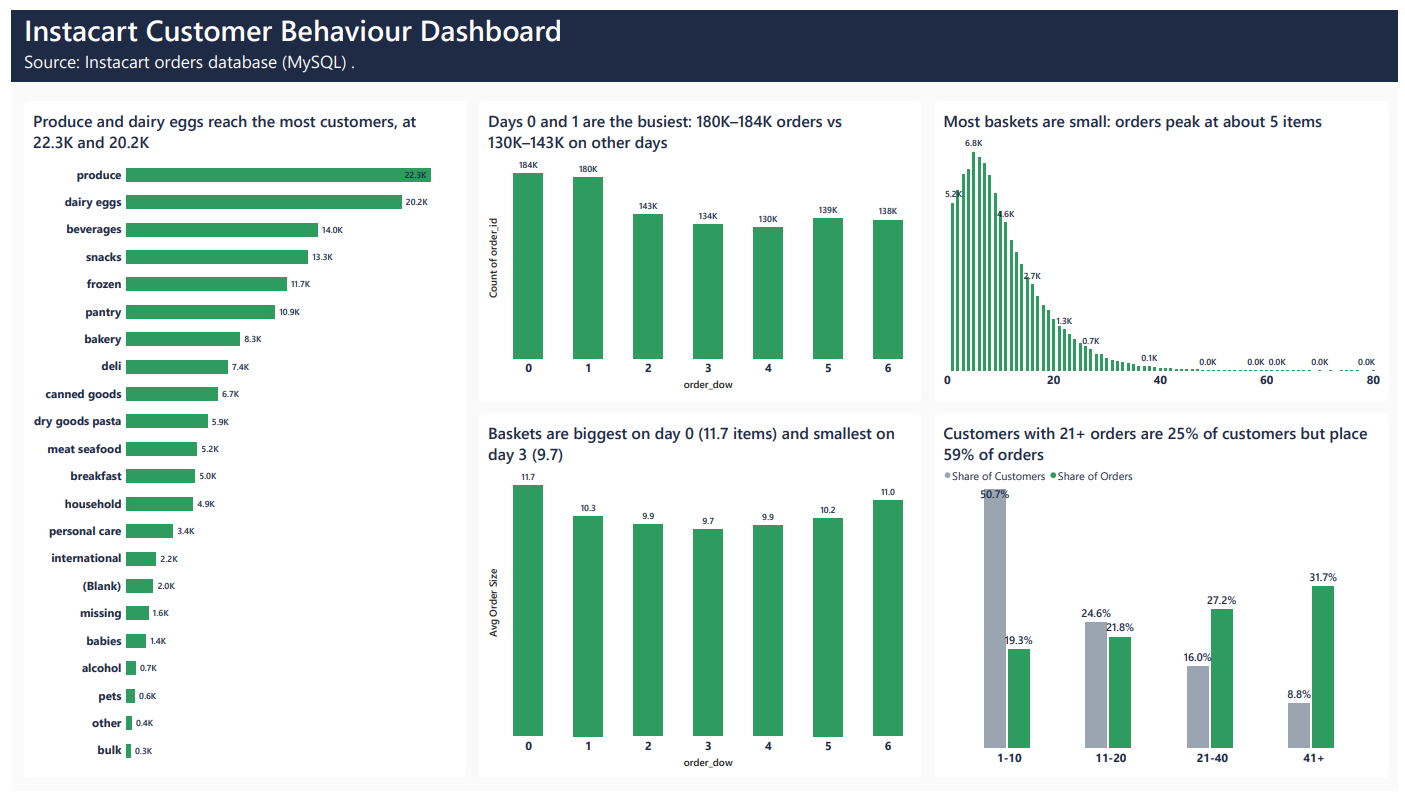

Layout of this report page (visuals, bound fields, positions):
{"tool":"powerbi","page":{"name":"Customer Behaviour","canvas":[2560,1440],"ordinal":1},"visuals":[{"type":"clusteredColumnChart","title":"Baskets are biggest on day 0 (11.7 items) and smallest on day 3 (9.7)","fields":{"Category":["Orders.order_dow"],"Y":["Order_Products.Avg Order Size"]},"box":[864,744,816,672],"z":0},{"type":"clusteredBarChart","title":"Produce and dairy eggs reach the most customers, at 22.3K and 20.2K","fields":{"Category":["Departments.department"],"Y":["Count(Orders.user_id)"]},"box":[24,168,816,1248],"z":1000},{"type":"clusteredColumnChart","title":"Days 0 and 1 are the busiest: 180K–184K orders vs 130K–143K on other days","fields":{"Category":["Orders.order_dow"],"Y":["CountNonNull(Orders.order_id)"]},"box":[864,168,816,552],"z":2000},{"type":"clusteredColumnChart","title":"Most baskets are small: orders peak at about 5 items","fields":{"Category":["Order_Products.Order Size Col"],"Y":["Count(Order_Products.order_id)"]},"box":[1704,168,840,552],"z":3000},{"type":"shape","box":[0,0,2561.6,131.8],"z":8000},{"type":"textbox","box":[24,0,1008,72],"z":9000},{"type":"textbox","box":[24,72,2500,75],"z":10000},{"type":"clusteredColumnChart","title":"Customers with 21+ orders are 25% of customers but place 59% of orders","fields":{"Category":["Customers.Order Frequency Group"],"Y":["Customers.Share of Customers","Customers.Share of Orders"]},"box":[1704,744,840,672],"z":11000}]}

Visuals, with their boxes in screenshot pixels (x1, y1, x2, y2), scaled from the page's 2560x1440 canvas onto the 1405x796 screenshot:
"Baskets are biggest on day 0 (11.7 items) and smallest on day 3 (9.7)" clusteredColumnChart: 474:411:922:783
"Produce and dairy eggs reach the most customers, at 22.3K and 20.2K" clusteredBarChart: 13:93:461:783
"Days 0 and 1 are the busiest: 180K–184K orders vs 130K–143K on other days" clusteredColumnChart: 474:93:922:398
"Most baskets are small: orders peak at about 5 items" clusteredColumnChart: 935:93:1396:398
shape: 0:0:1404:73
textbox: 13:0:566:40
textbox: 13:40:1385:81
"Customers with 21+ orders are 25% of customers but place 59% of orders" clusteredColumnChart: 935:411:1396:783
